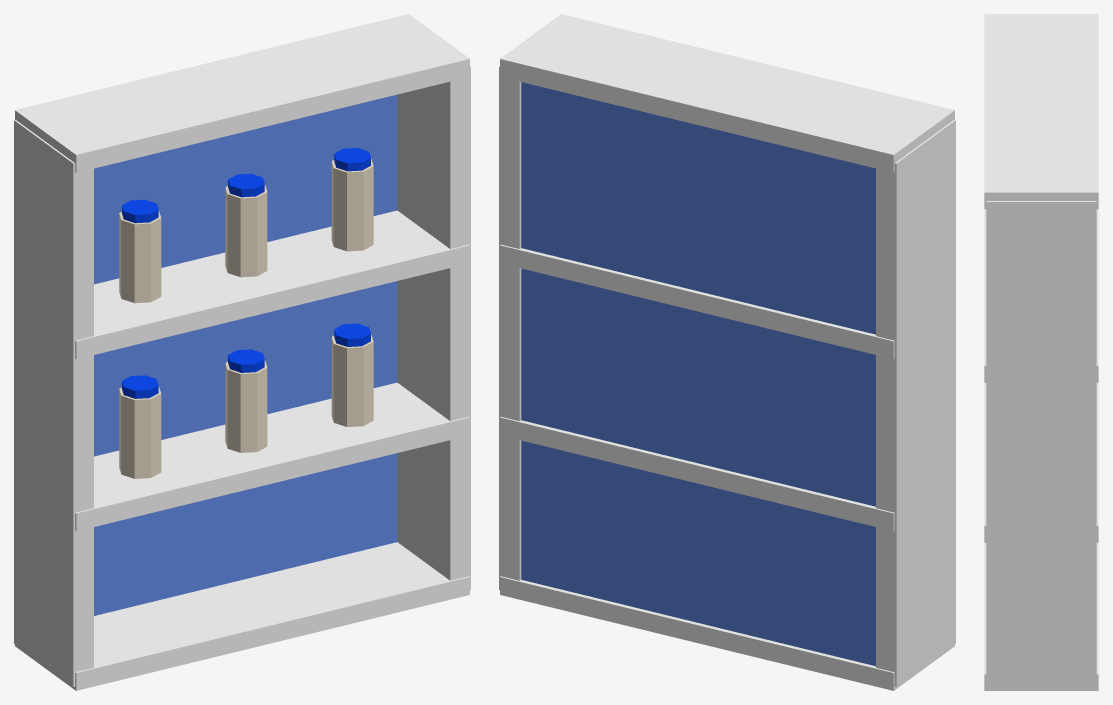
3 renders of one model, left to right at view 1: azimuth 30°, elevation 25°; view 2: azimuth 150°, elevation 25°; view 3: azimuth 270°, elevation 25°, orthographic. The views are drawn at different scales.
Parts seen in each view (by area): view 1: Cabinet back, Clean supply cabinet side, Clean supply shelf.003, Clean supply cabinet side.001, Clean supply shelf, Clean supply shelf.002, Clean supply shelf.001, Supply bottle, Supply bottle.001, Supply bottle.004, Supply bottle.003, Supply bottle.002 (+7 smaller); view 2: Cabinet back, Clean supply cabinet side, Clean supply shelf.003, Clean supply cabinet side.001, Clean supply shelf, Clean supply shelf.001, Clean supply shelf.002; view 3: Clean supply cabinet side.001, Clean supply shelf.003, Clean supply shelf, Clean supply shelf.002, Clean supply shelf.001.
Part boxes in pixels (x1=…): Cabinet back: x1=94, y1=94, x2=397, y2=615; Clean supply cabinet side: x1=14, y1=120, x2=93, y2=686; Clean supply shelf.003: x1=15, y1=14, x2=469, y2=172; Clean supply cabinet side.001: x1=397, y1=66, x2=470, y2=590; Clean supply shelf: x1=15, y1=542, x2=469, y2=690; Clean supply shelf.002: x1=75, y1=210, x2=469, y2=359; Clean supply shelf.001: x1=75, y1=382, x2=469, y2=531; Supply bottle: x1=119, y1=386, x2=161, y2=478; Supply bottle.001: x1=225, y1=361, x2=267, y2=452; Supply bottle.004: x1=225, y1=185, x2=267, y2=277; Supply bottle.003: x1=119, y1=211, x2=161, y2=303; Supply bottle.002: x1=331, y1=334, x2=373, y2=426; Cabinet back: x1=521, y1=82, x2=875, y2=666; Clean supply cabinet side: x1=876, y1=120, x2=955, y2=686; Clean supply shelf.003: x1=500, y1=14, x2=954, y2=172; Clean supply cabinet side.001: x1=499, y1=66, x2=521, y2=590; Clean supply shelf: x1=500, y1=576, x2=954, y2=690; Clean supply shelf.001: x1=500, y1=417, x2=894, y2=531; Clean supply shelf.002: x1=500, y1=244, x2=894, y2=359; Clean supply cabinet side.001: x1=986, y1=201, x2=1096, y2=688; Clean supply shelf.003: x1=984, y1=14, x2=1098, y2=209; Clean supply shelf: x1=984, y1=542, x2=1098, y2=690; Clean supply shelf.002: x1=984, y1=209, x2=1098, y2=382; Clean supply shelf.001: x1=984, y1=382, x2=1098, y2=542.
Bounding box in the file's own units: 1.16 × 1.5 × 0.31.
1 material, 1 textured.
